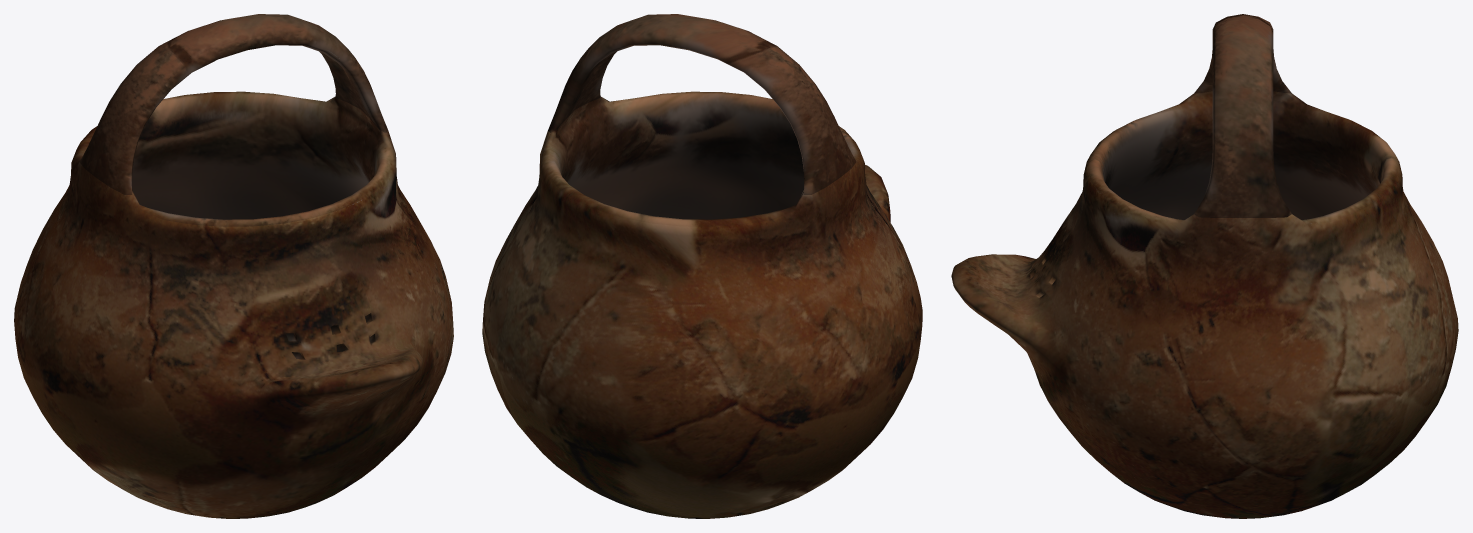
The model's file is Utensile_Brocca.dae.
3 renders of one model, left to right at view 1: azimuth 30°, elevation 25°; view 2: azimuth 150°, elevation 25°; view 3: azimuth 270°, elevation 25°, orthographic. The views are drawn at different scales.
Parts seen in each view (by area): view 1: pSphere3; view 2: pSphere3; view 3: pSphere3.
Boxes of the visible parts, x1,y1,x2,y2 form: pSphere3: [14, 14, 453, 518]; pSphere3: [482, 14, 922, 518]; pSphere3: [951, 14, 1458, 518].
Bounding box in the file's own units: 25.8 × 30.72 × 30.35.
